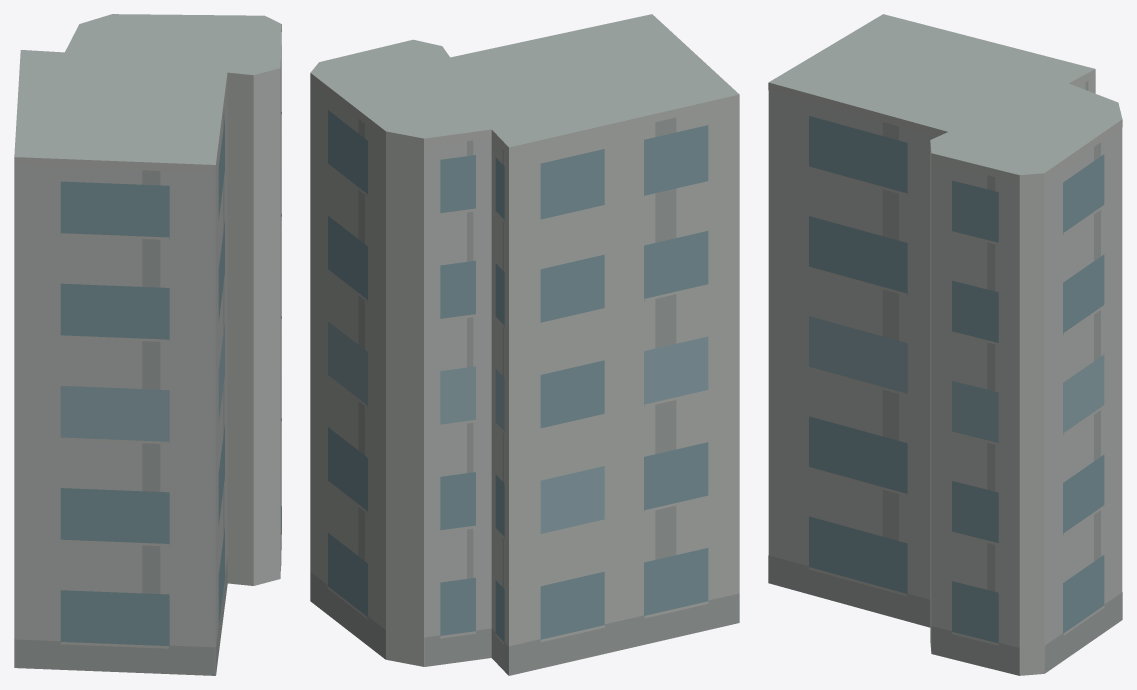
Rendered from survey-upis-32771047.glb.
3 renders of one model, left to right at view 1: azimuth 30°, elevation 25°; view 2: azimuth 150°, elevation 25°; view 3: azimuth 270°, elevation 25°, orthographic. The views are drawn at different scales.
Parts seen in each view (by area): view 1: survey-upis-32771047.tmp; view 2: survey-upis-32771047.tmp; view 3: survey-upis-32771047.tmp.
Part boxes in pixels (left/top/right/bottom): survey-upis-32771047.tmp: left=14, top=14, right=281, bottom=675; survey-upis-32771047.tmp: left=310, top=14, right=739, bottom=675; survey-upis-32771047.tmp: left=768, top=14, right=1122, bottom=675.
Size of the model in its own units: 10.54 by 15.25 by 9.78.
